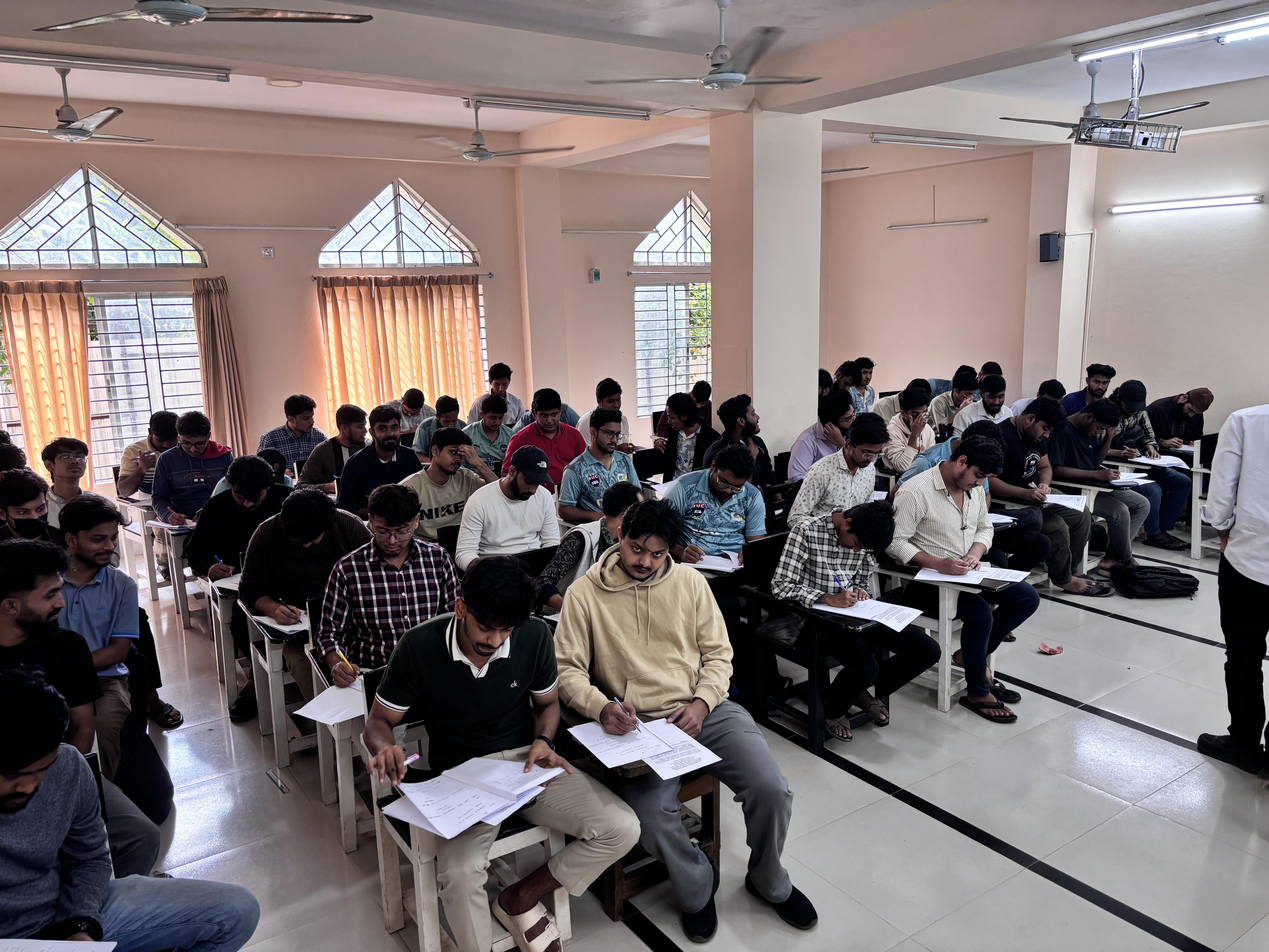copying: (0, 531, 99, 749), (53, 480, 137, 639), (649, 390, 712, 487), (255, 389, 328, 467), (311, 399, 372, 485), (3, 469, 60, 559)
invigilator: (1206, 366, 1269, 798)
no_cheating: (0, 666, 209, 952), (381, 550, 558, 861), (570, 494, 721, 797), (771, 494, 915, 700), (335, 487, 443, 702), (909, 427, 1012, 631), (240, 486, 355, 663), (666, 444, 766, 590), (197, 457, 294, 599), (464, 449, 561, 574), (1005, 394, 1081, 541), (1064, 391, 1149, 520), (559, 405, 644, 521), (402, 427, 479, 526), (164, 409, 223, 527), (513, 387, 581, 488), (826, 411, 899, 500), (1160, 379, 1221, 479), (118, 403, 180, 500), (800, 387, 861, 484), (38, 426, 98, 504), (891, 389, 940, 466), (587, 365, 654, 420), (971, 378, 1025, 436), (467, 395, 514, 459), (364, 406, 402, 482), (1070, 351, 1123, 405), (384, 387, 442, 424), (424, 391, 477, 431), (855, 351, 890, 407), (480, 361, 524, 397)
side_talking: (714, 390, 779, 454)
